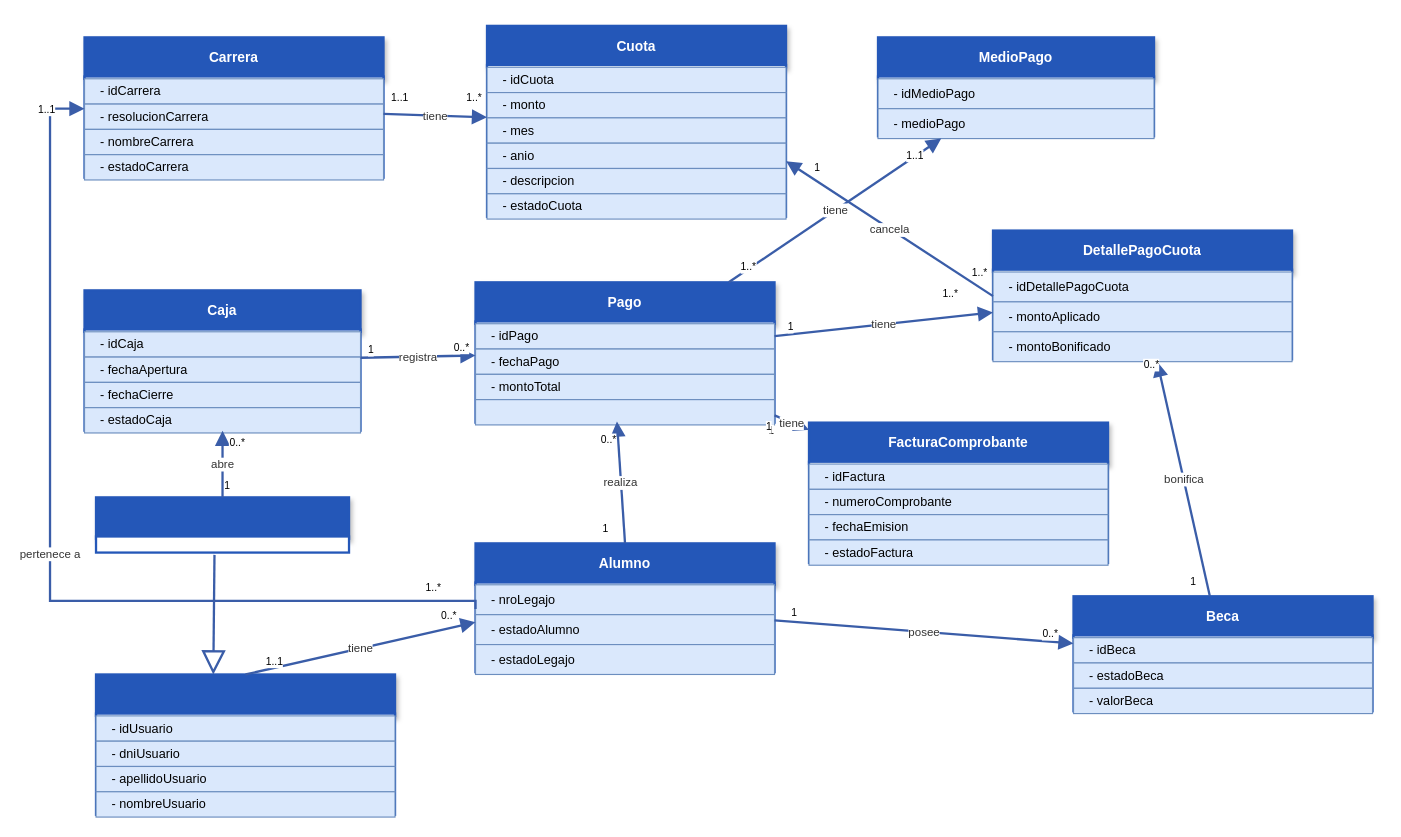
This 1401x837 diagram has some shape labels left out. The shapes that lost their labels are listed below. From the top down, each one's centre as x and y in pixels, then its label:
At [624,411]: "- estadoPago".
At [223,519]: "Cajero".
At [246,696]: "Usuario".
